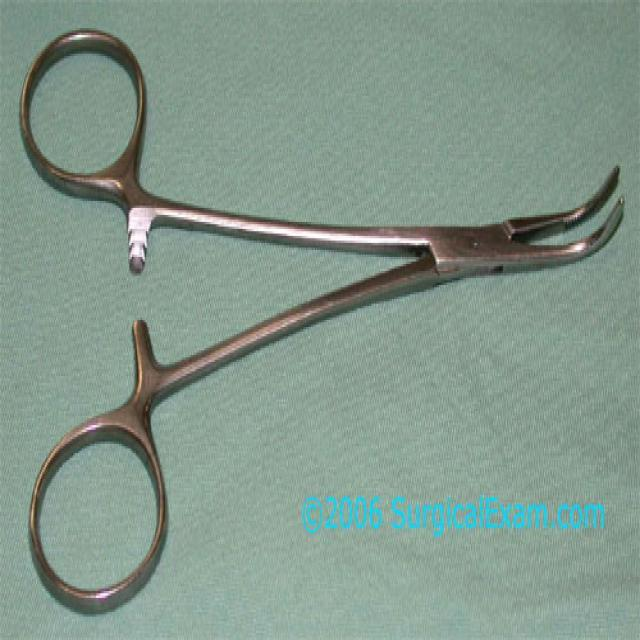Rectangle Cholecystectomy Forceps: (15, 25, 630, 619)
